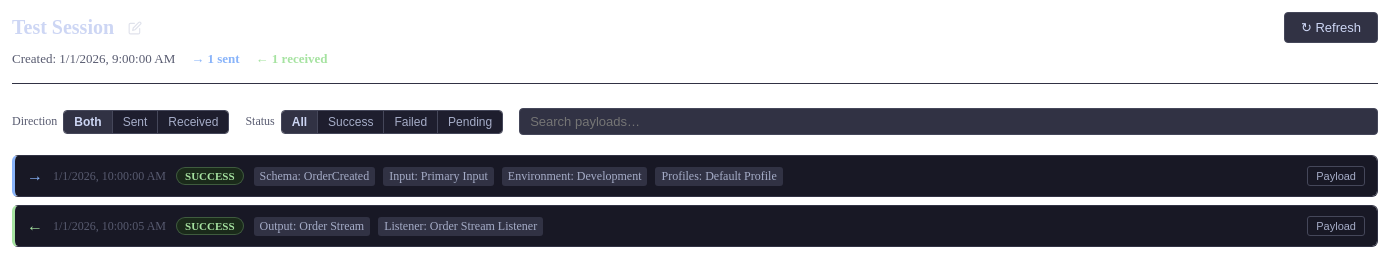
Test case: SessionView component › restores all events when direction filter is set back to both
Click the button with test id "filter-direction-sent". click: coordinates (136, 122)
box: [113, 110, 158, 132]
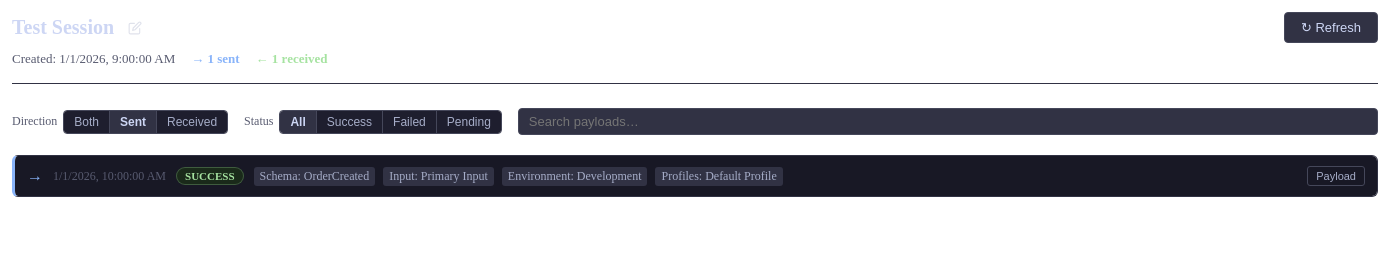
Click the button with test id "filter-direction-both". click: coordinates (87, 122)
box: [64, 110, 110, 132]
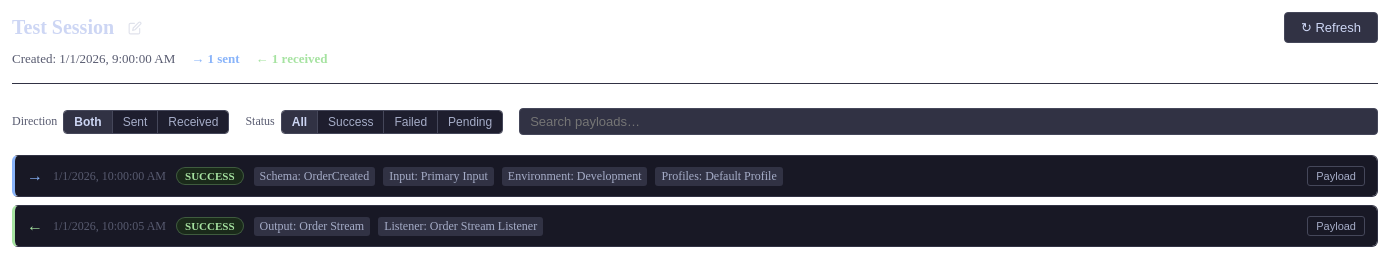
Expected: the element with test id "event-row-evt-sent-1" is shown, [12, 155, 1378, 197]
Now the element with test id "event-row-evt-rcv-1" is shown, box [12, 205, 1378, 247]
